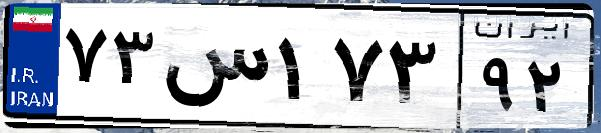1: (270, 28, 330, 110)
2: (525, 38, 570, 115)
3: (385, 28, 445, 110), (110, 28, 158, 98)
7: (330, 28, 385, 110), (57, 26, 110, 100)
9: (475, 38, 525, 113)
س: (158, 20, 270, 120)
